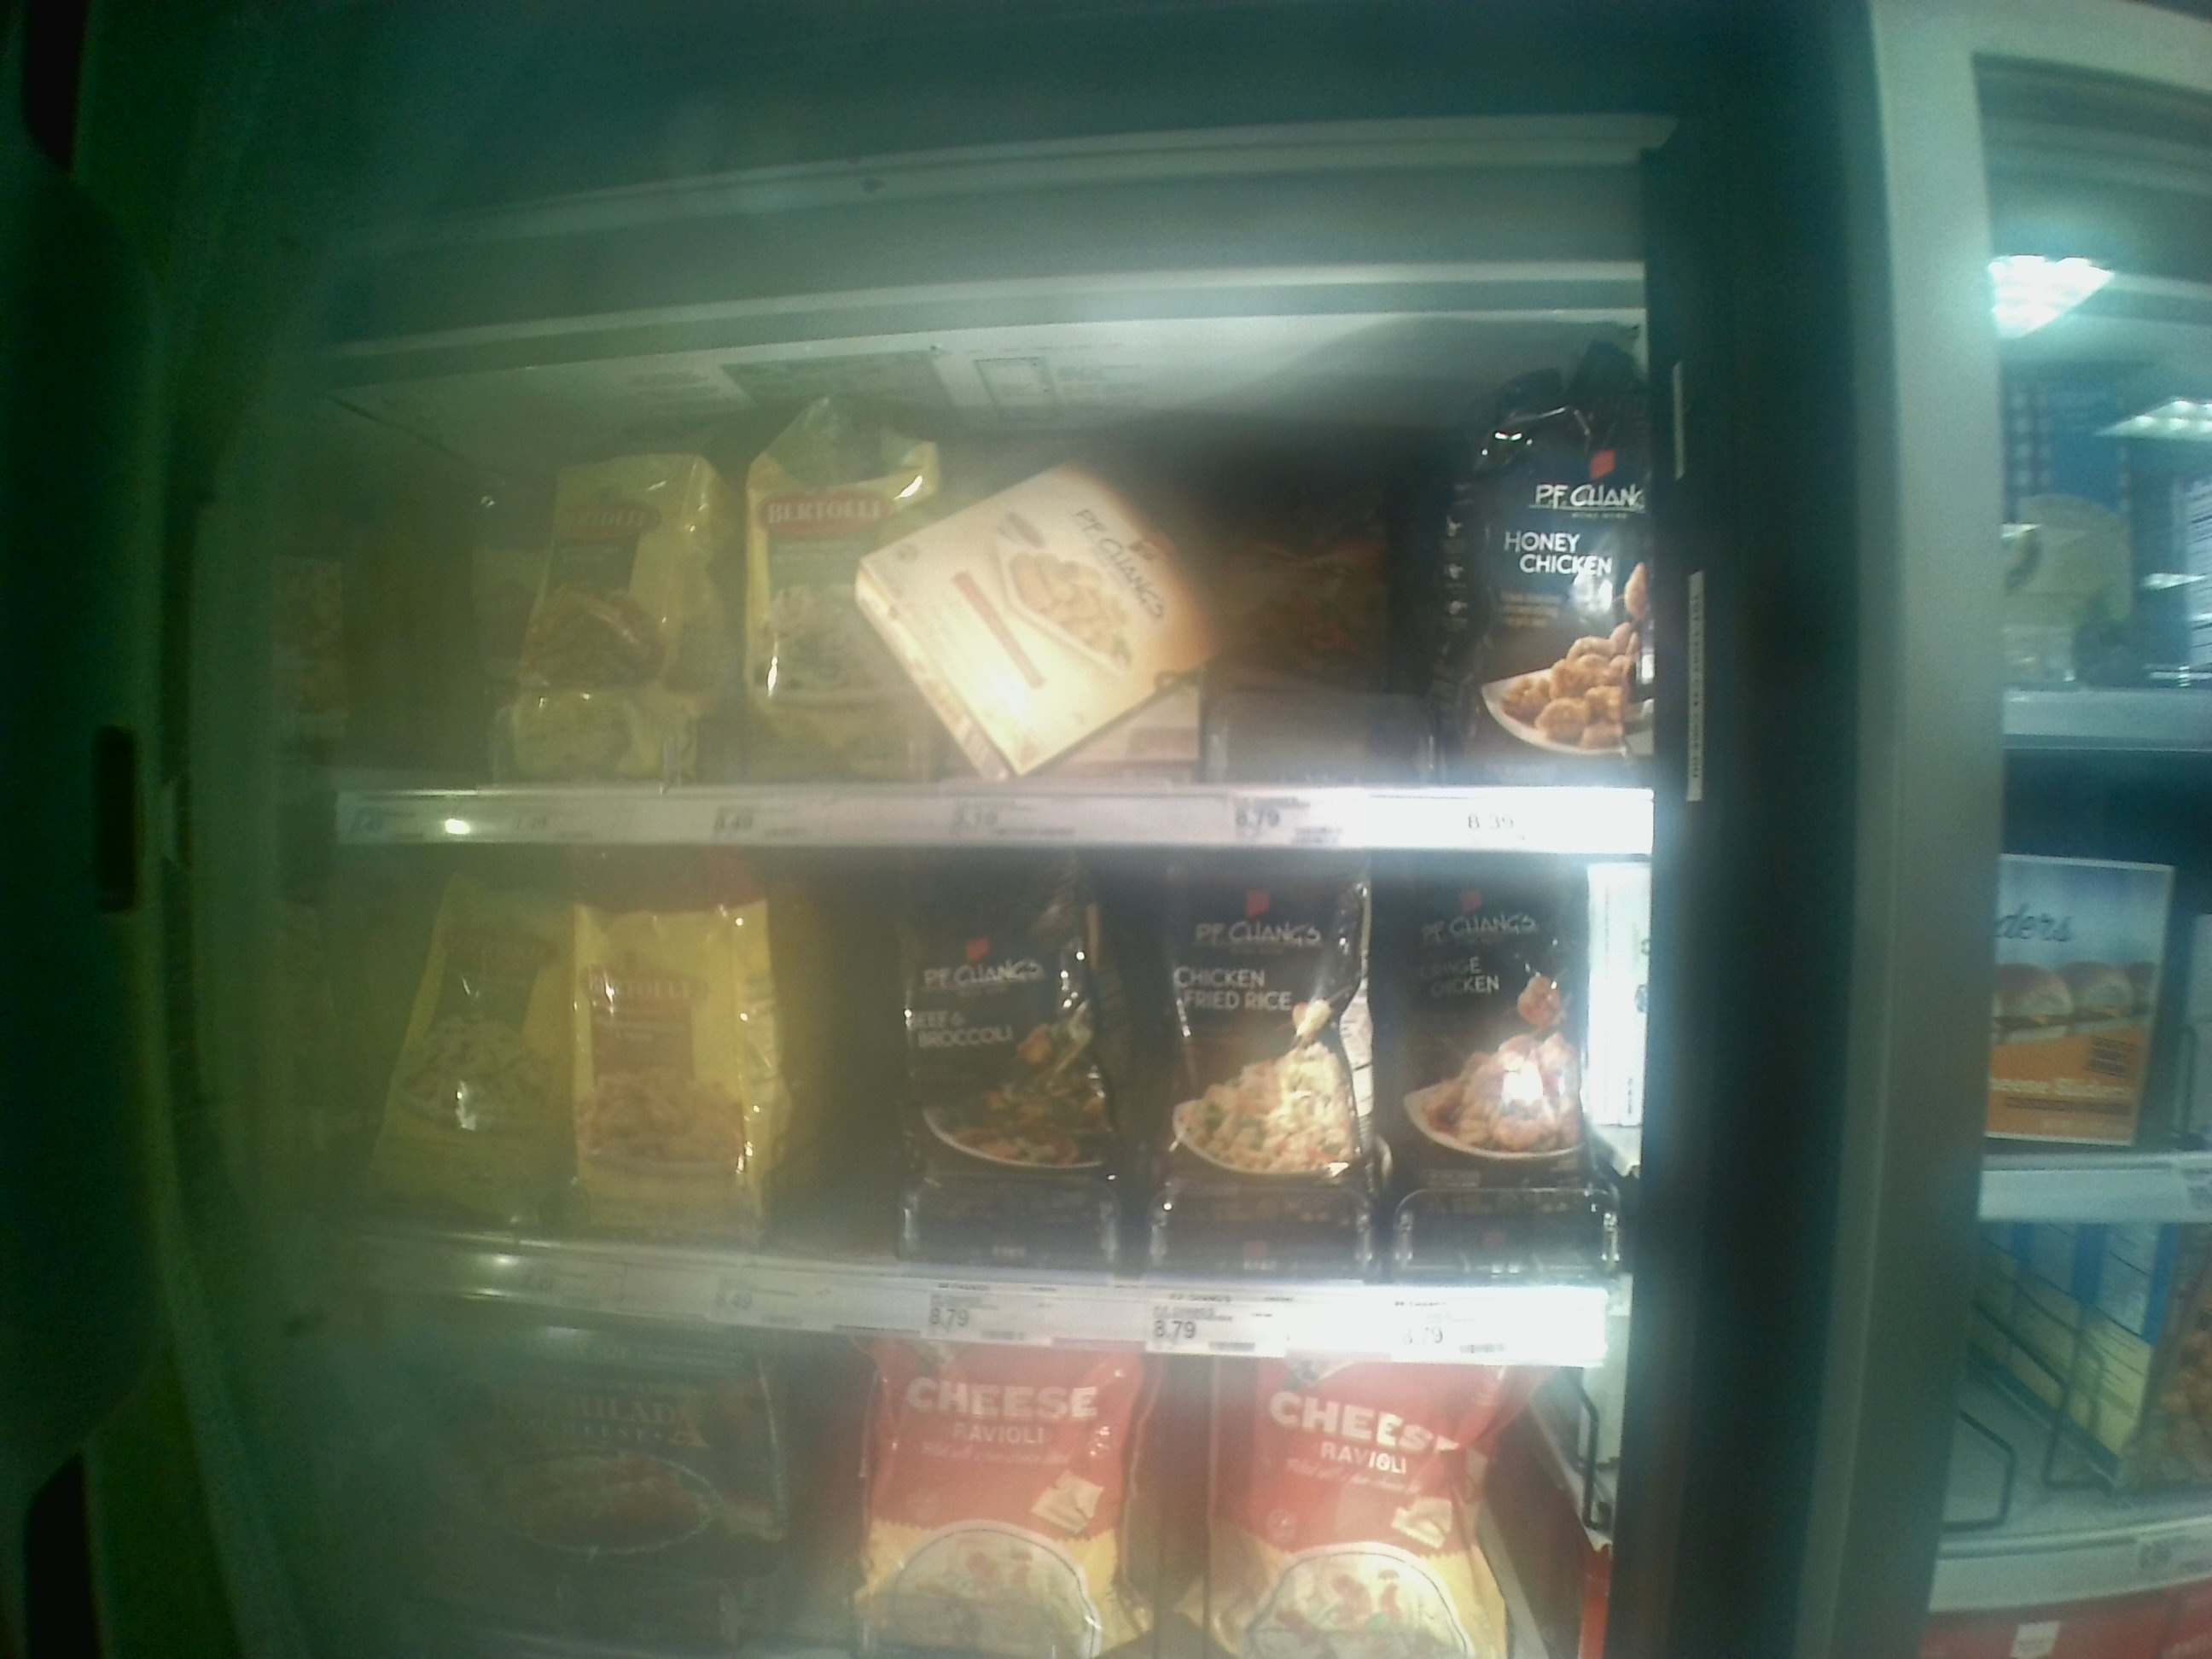frozen-food-shelf: (340, 847, 1611, 1359), (314, 401, 1644, 854)
